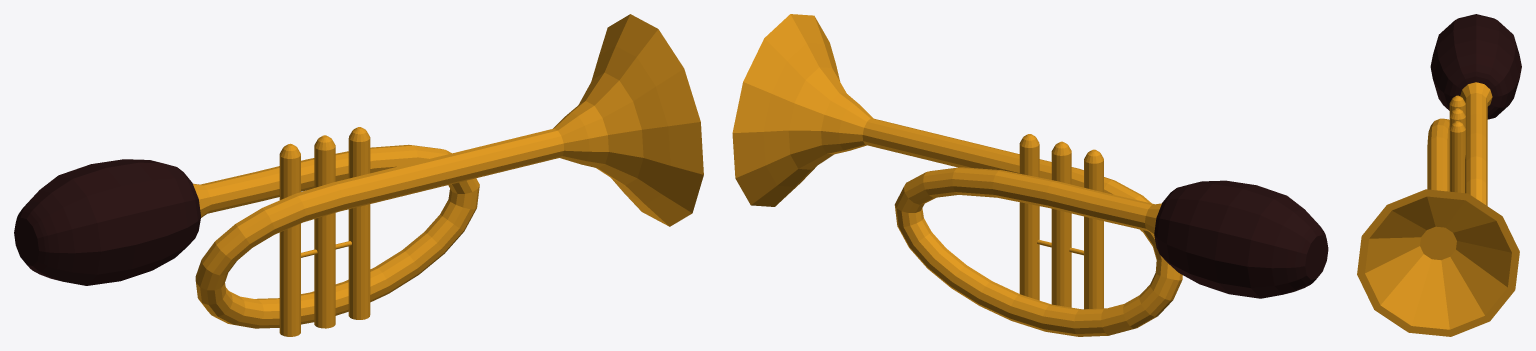
The model's file is Troete.fbx.
The picture shows the model from 3 angles, left to right: view 1: azimuth 30°, elevation 25°; view 2: azimuth 150°, elevation 25°; view 3: azimuth 270°, elevation 25°; orthographic projection. The views are drawn at different scales.
Visible parts, largest first — view 1: BezierCurve.001; view 2: BezierCurve.001; view 3: BezierCurve.001.
Boxes of the visible parts, x1,y1,x2,y2 form: BezierCurve.001: [14, 14, 703, 336]; BezierCurve.001: [732, 14, 1328, 336]; BezierCurve.001: [1357, 14, 1521, 336].
Bounding box in the file's own units: 138 × 52.84 × 43.48.
